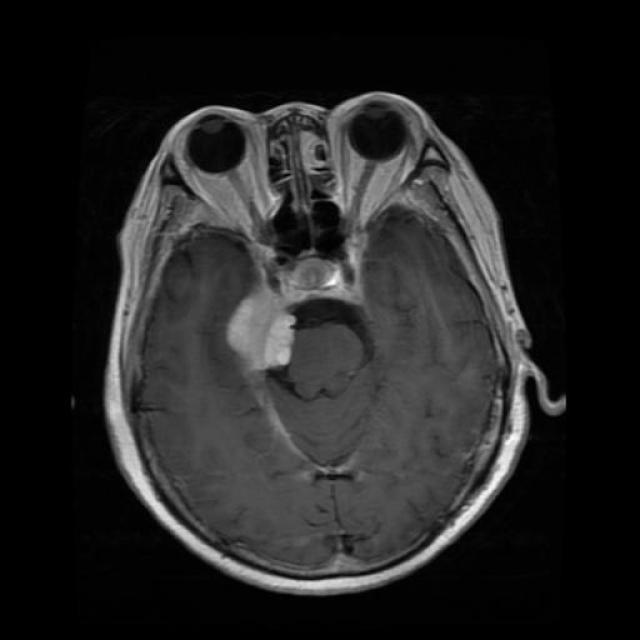meningioma: (226, 290, 298, 370)
